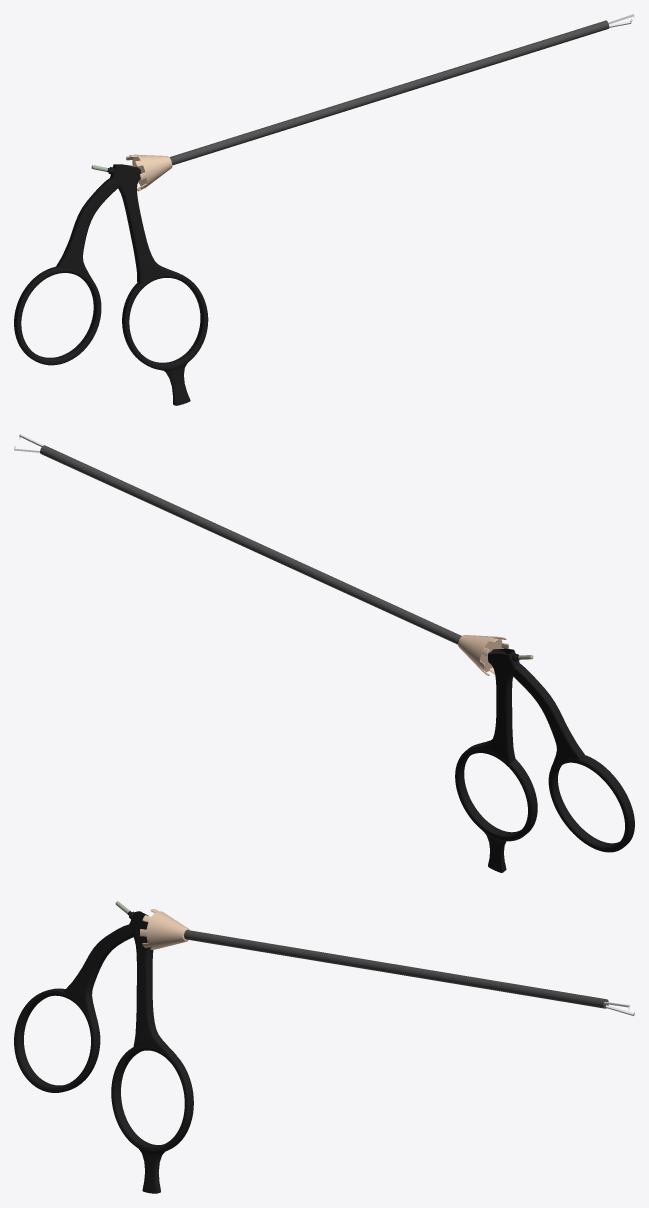
File: Scessiorr.fbx
The picture shows the model from 3 angles, top to bottom: view 1: azimuth 30°, elevation 25°; view 2: azimuth 150°, elevation 25°; view 3: azimuth 330°, elevation 25°; orthographic projection. The views are drawn at different scales.
Parts seen in each view (by area): view 1: Circle.002, Circle.001, Circle.003, Circle.004; view 2: Circle.002, Circle.001, Circle.003, Circle.004; view 3: Circle.002, Circle.001, Circle.003, Circle.004.
Boxes of the visible parts, left/top/right/bottom form: Circle.002: left=91, top=164, right=208, bottom=405; Circle.001: left=169, top=20, right=609, bottom=165; Circle.003: left=14, top=178, right=119, bottom=365; Circle.004: left=126, top=154, right=172, bottom=191; Circle.002: left=455, top=648, right=537, bottom=872; Circle.001: left=40, top=445, right=461, bottom=644; Circle.003: left=510, top=663, right=634, bottom=852; Circle.004: left=458, top=635, right=508, bottom=675; Circle.002: left=111, top=901, right=193, bottom=1193; Circle.001: left=184, top=930, right=608, bottom=1008; Circle.003: left=14, top=924, right=133, bottom=1092; Circle.004: left=140, top=909, right=189, bottom=949.
Bounding box in the file's own units: 19.27 × 8.9 × 2.32.
